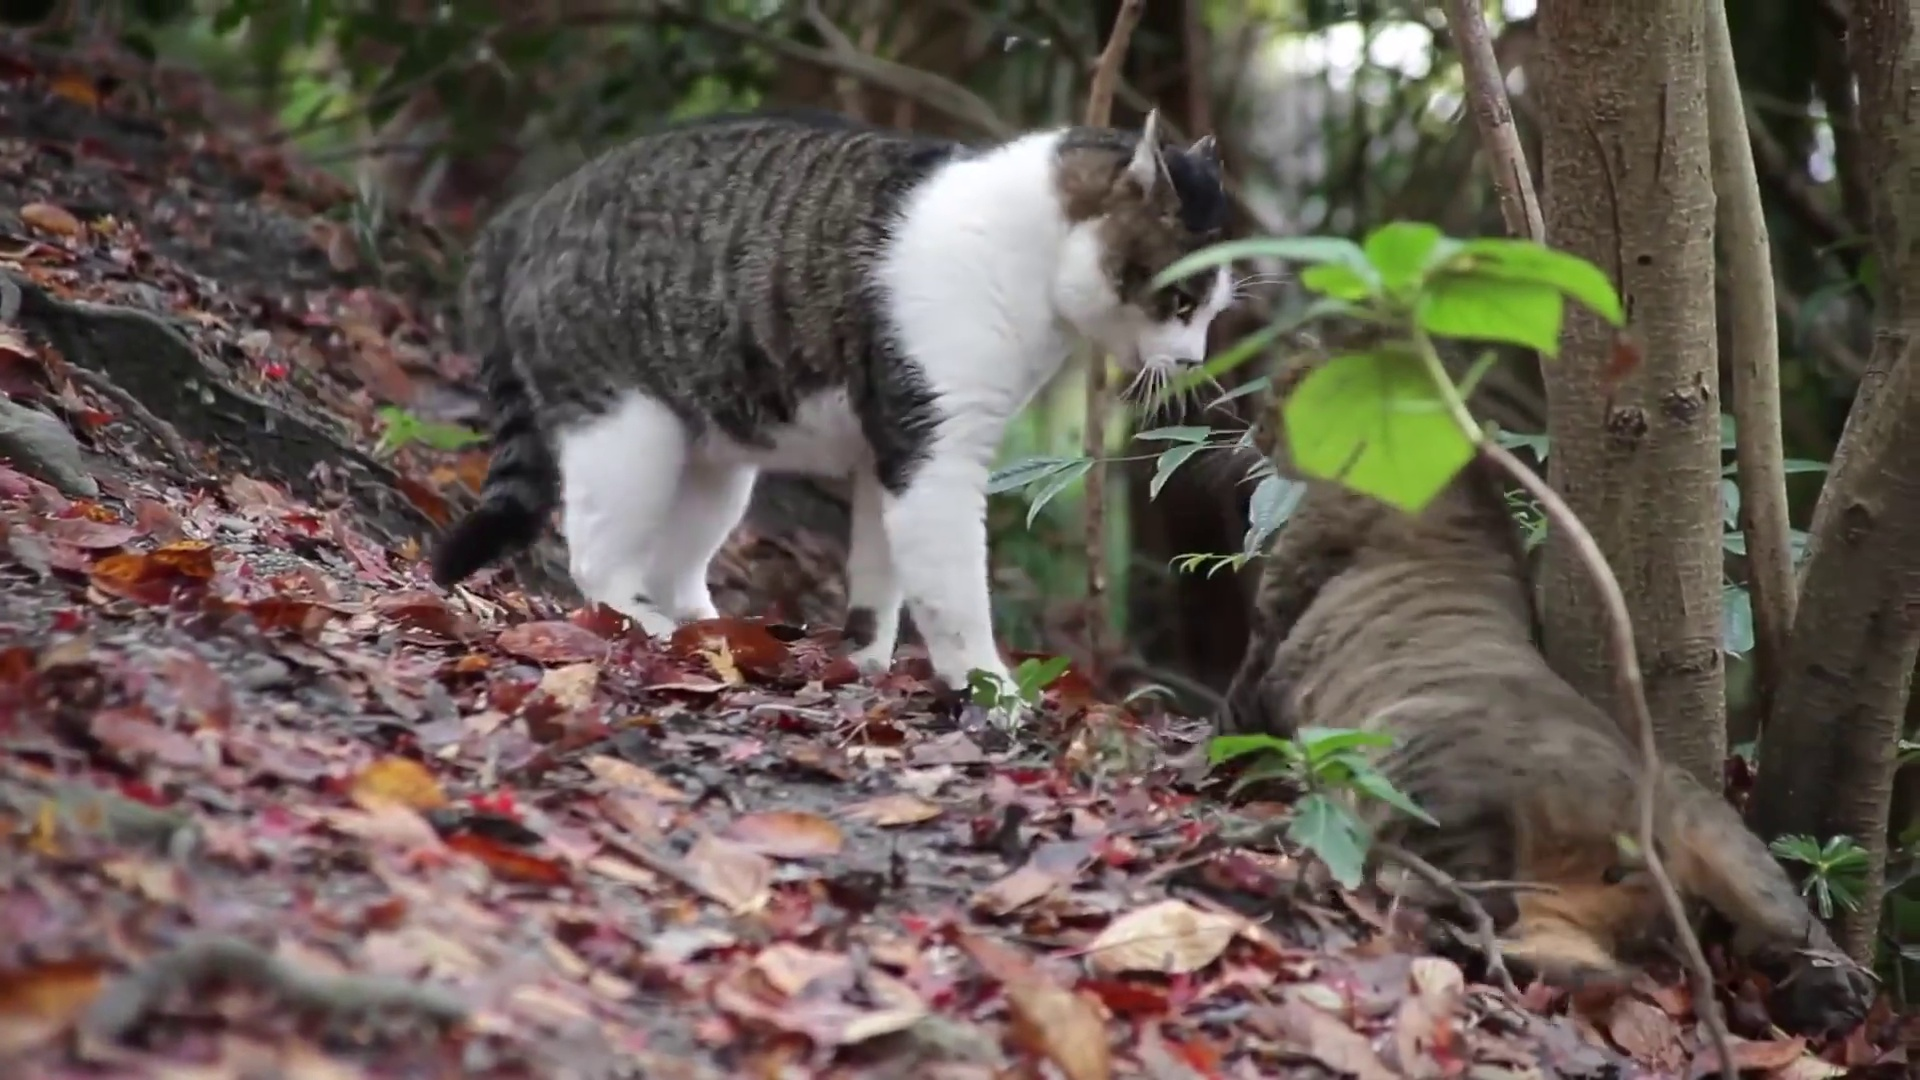black-white: (427, 108, 1238, 709)
pure black: (1249, 342, 1592, 864)
